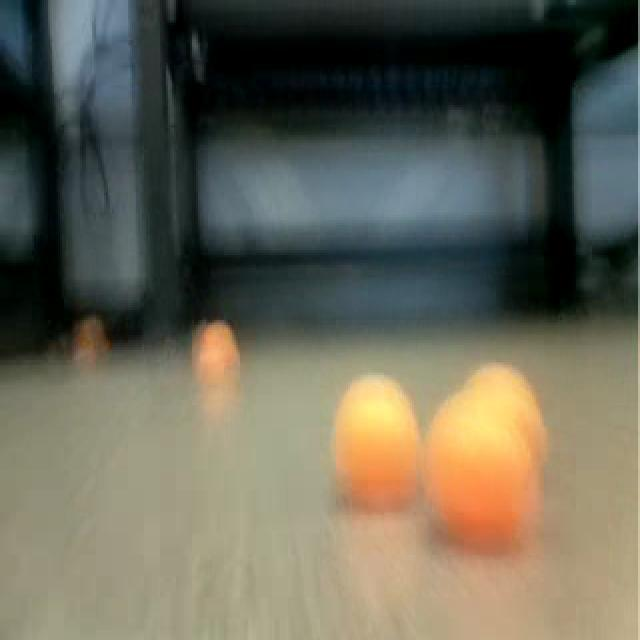oball: (421, 386, 539, 554), (330, 375, 414, 507), (190, 321, 240, 384)
